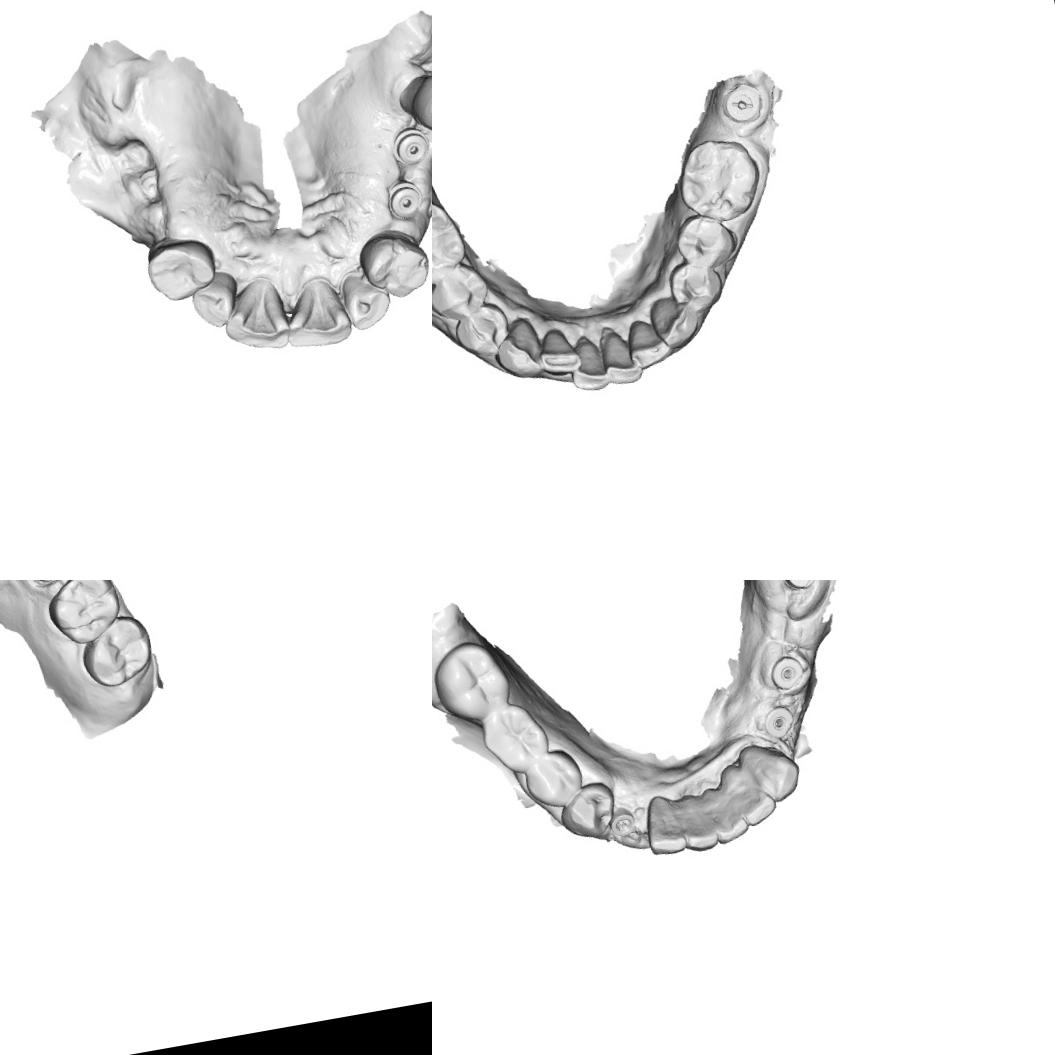canine: (732, 734, 804, 808), (490, 314, 550, 384), (646, 286, 702, 351)
implant: (718, 75, 771, 131), (382, 174, 426, 222), (388, 122, 432, 167), (766, 650, 808, 696), (760, 700, 800, 740), (605, 804, 640, 844), (776, 580, 822, 593)
incisor: (216, 274, 294, 358), (278, 272, 354, 352), (336, 264, 395, 332), (185, 268, 247, 332), (672, 786, 724, 854), (637, 791, 689, 858), (597, 325, 646, 391), (625, 312, 672, 375), (563, 333, 610, 395), (724, 778, 780, 830), (534, 323, 582, 379), (707, 786, 751, 844)
molar: (672, 130, 764, 225), (432, 633, 518, 729), (74, 610, 158, 692), (476, 697, 554, 782), (40, 580, 126, 650), (393, 62, 432, 162), (432, 197, 472, 287)
premolar: (353, 225, 432, 304), (141, 233, 221, 306), (518, 745, 588, 815), (553, 778, 623, 848), (448, 300, 509, 364), (674, 208, 735, 264), (432, 261, 488, 322), (670, 254, 728, 310)
